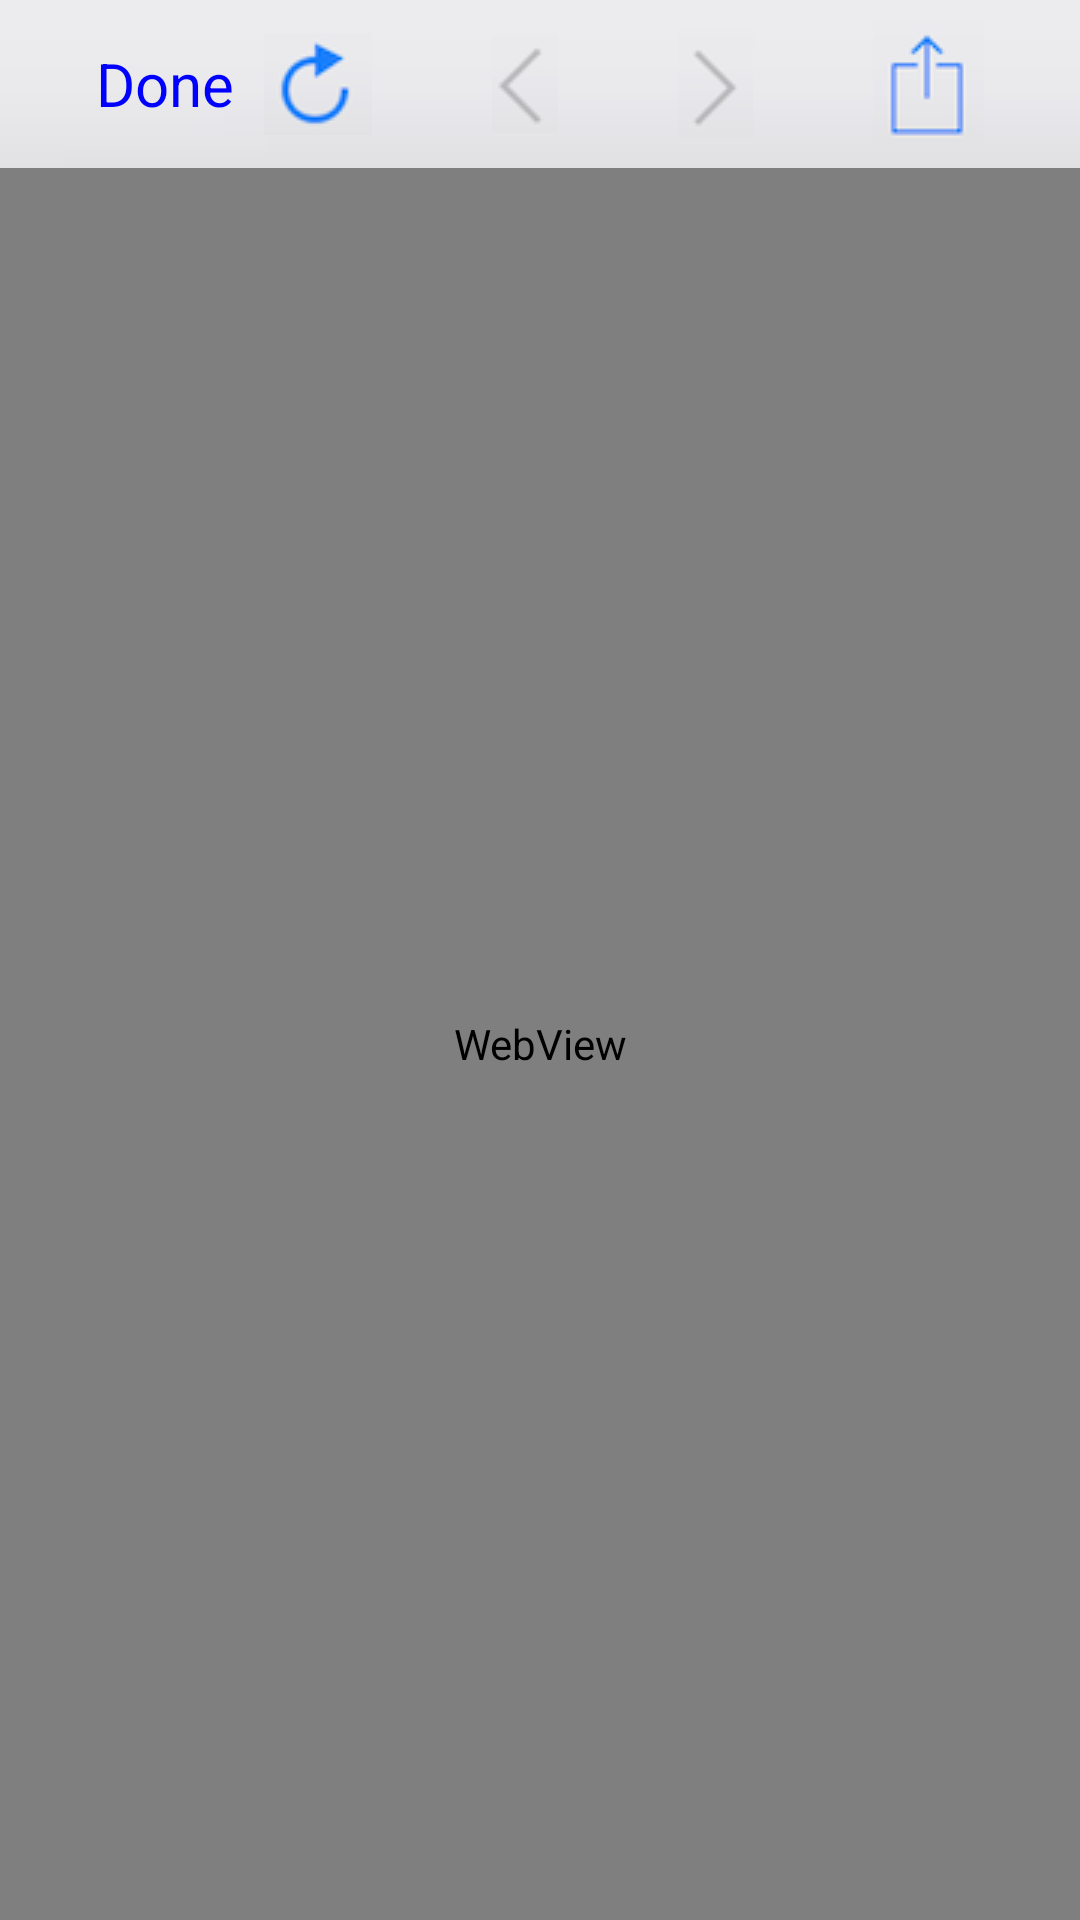

Screen size 1080x1920. Icon name, then its center in pixels as (x,y):
back url: (520,86)
next url: (715,88)
reload: (315,83)
share url: (927,85)
